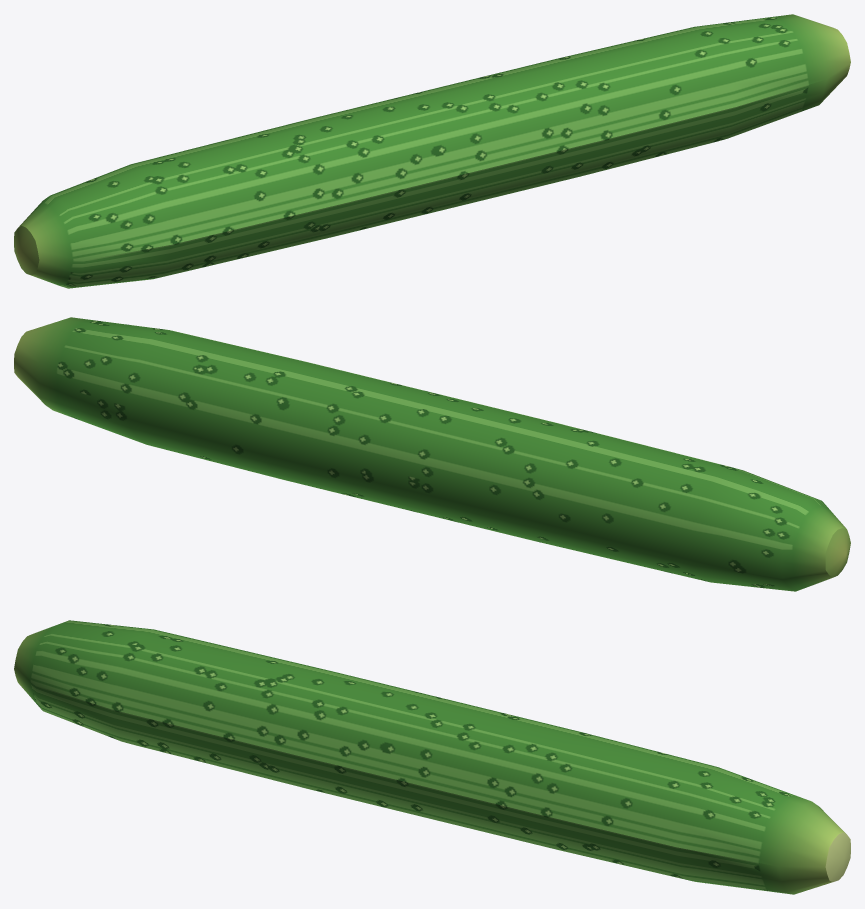
The model's file is Cucumber.fbx.
3 renders of one model, top to bottom at view 1: azimuth 30°, elevation 25°; view 2: azimuth 150°, elevation 25°; view 3: azimuth 330°, elevation 25°, orthographic.
Visible parts, largest first — view 1: Cucumber; view 2: Cucumber; view 3: Cucumber.
Part boxes in pixels (x1,y1,x2,y2): Cucumber: (14, 14, 850, 288); Cucumber: (14, 317, 850, 591); Cucumber: (14, 620, 850, 894).
Size of the model in its own units: 0.3 by 0.038 by 0.038.
2 materials, 1 textured.
